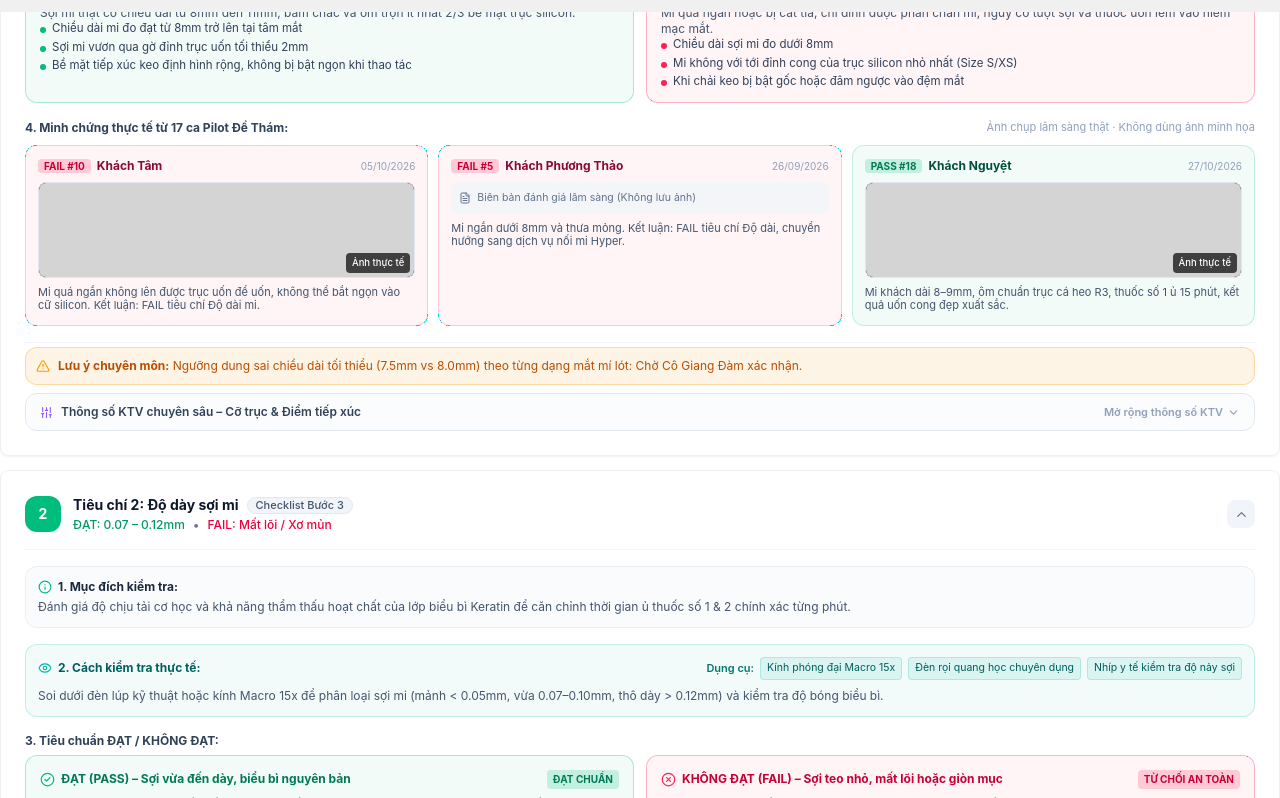
Test: PilotCriteriaSopDetail › toggles KTV deep-dive technical specifications
This screenshot has width=1280, height=798.
Expected: the text "Chiều dài 8.0 – 9.0mm: Chọn trục Silicon Size S" is not shown
Click the button with test id "toggle-deep-dive-1".
click(211, 412)  # box [26,394,1254,430]
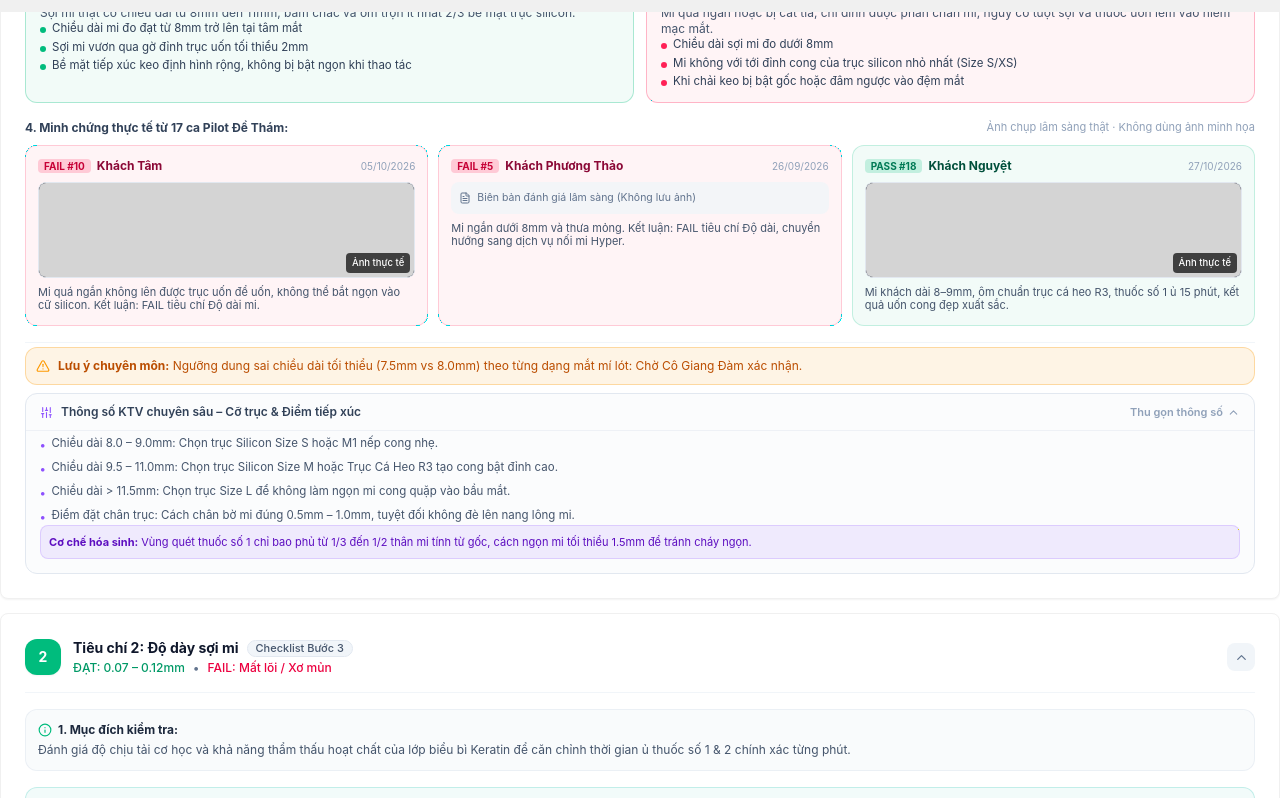
Expected: the text "Chiều dài 8.0 – 9.0mm: Chọn trục Silicon Size S" is shown, [52,436,438,450]
